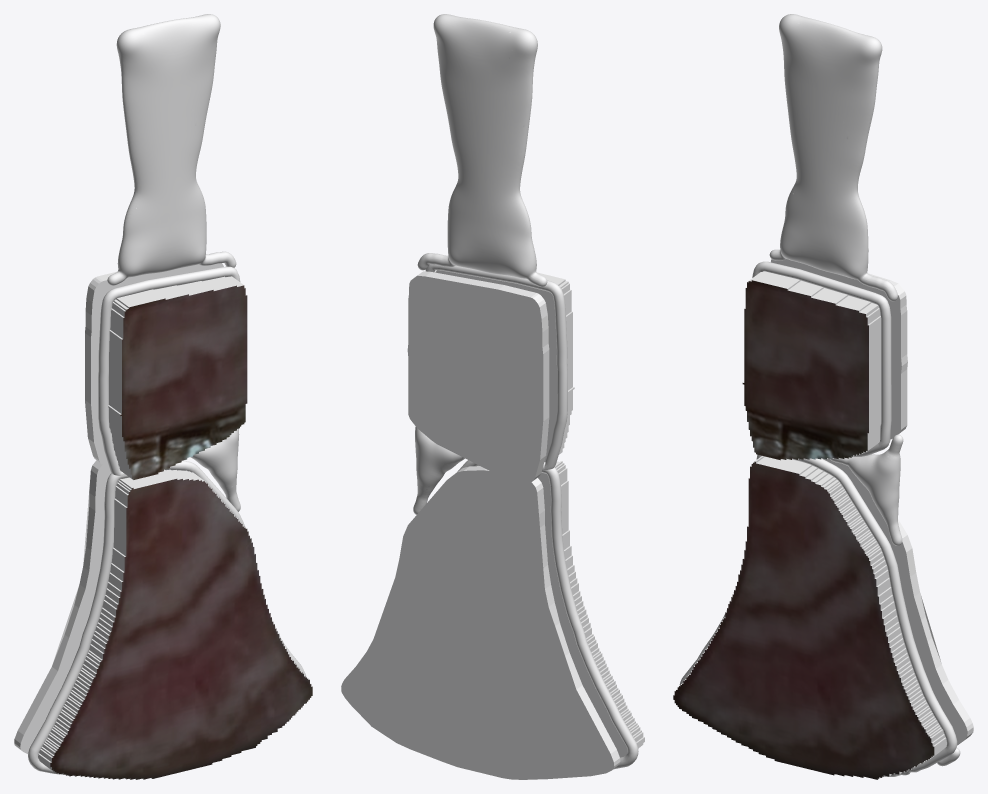
3 views of the same model, side by side, from view 1: azimuth 30°, elevation 25°; view 2: azimuth 150°, elevation 25°; view 3: azimuth 330°, elevation 25° (orthographic).
Visible parts, largest first — view 1: joya; view 2: joya; view 3: joya.
Boxes of the visible parts, box(x1,y1,x2,y2) form: joya: box(14, 14, 312, 779); joya: box(341, 14, 644, 779); joya: box(673, 14, 973, 779).
Size of the model in its own units: 0.0156 by 0.04 by 0.00325.
3 materials, 1 textured.
